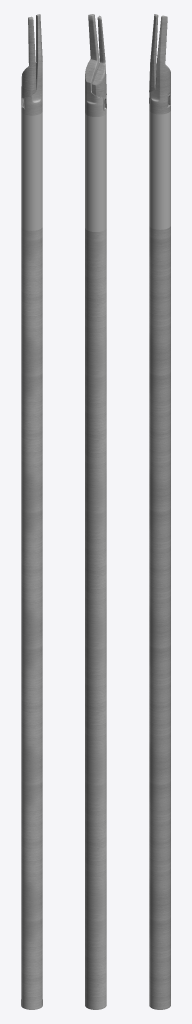
The picture shows the model from 3 angles, left to right: view 1: azimuth 30°, elevation 25°; view 2: azimuth 150°, elevation 25°; view 3: azimuth 330°, elevation 25°; orthographic projection.
Visible parts, largest first — view 1: polySurface417, 对象01; view 2: polySurface417, 对象01; view 3: polySurface417, 对象01.
Part boxes in pixels (box(x1,y1,x2,y2)): polySurface417: box(21, 14, 42, 1009); 对象01: box(21, 16, 36, 109); polySurface417: box(85, 14, 106, 1009); 对象01: box(92, 15, 106, 110); polySurface417: box(149, 15, 170, 1009); 对象01: box(149, 14, 158, 103).
Bounding box in the file's own units: 2.3 × 114 × 2.27.
